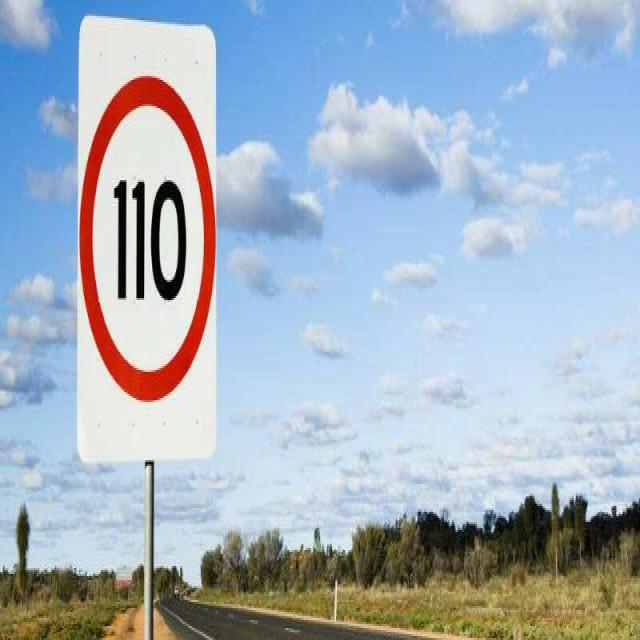speed limit 110: (78, 77, 216, 405)
